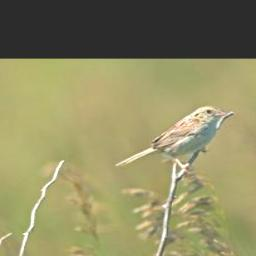Sparrow: (114, 104, 231, 176)
